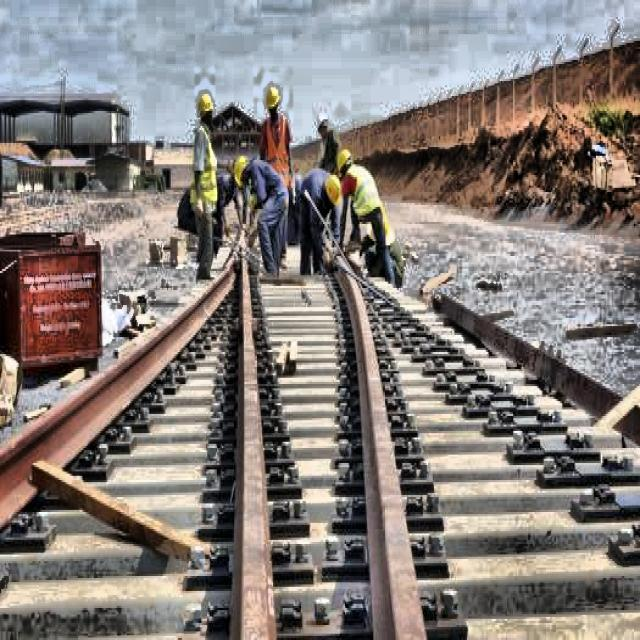helmet: (196, 87, 216, 128), (334, 145, 356, 181), (323, 169, 340, 209), (314, 104, 331, 143), (263, 86, 282, 120)
